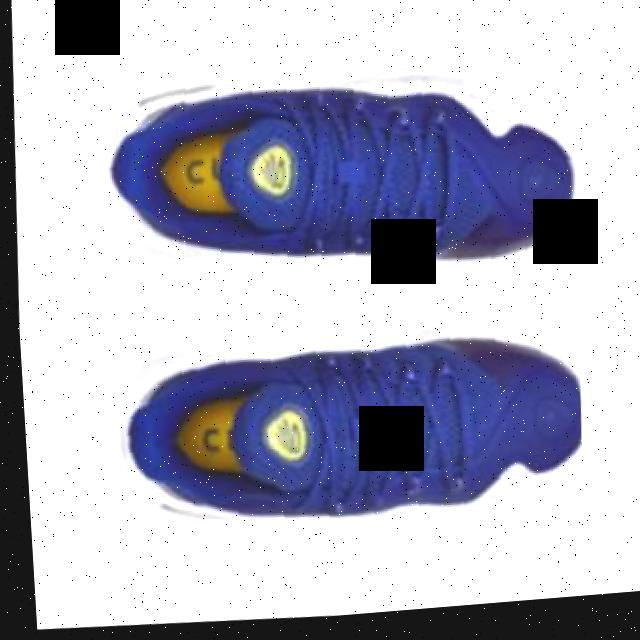shoe: (90, 36, 584, 299), (98, 297, 583, 546)
